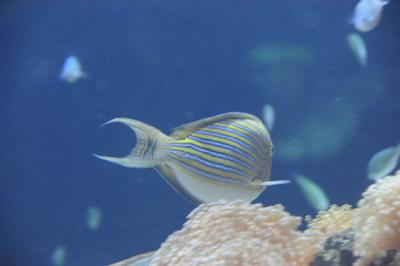Acanthuridae -Surgeonfishes-: (93, 102, 276, 209)
